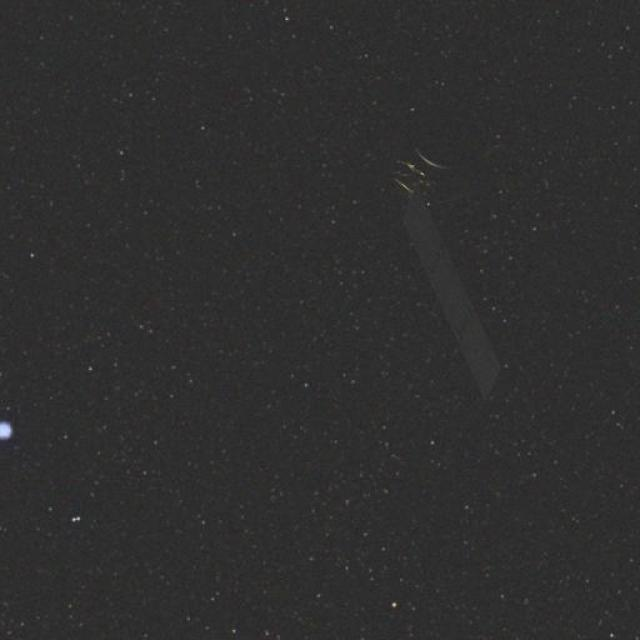earth_observation_sat_1: (368, 102, 525, 289)
